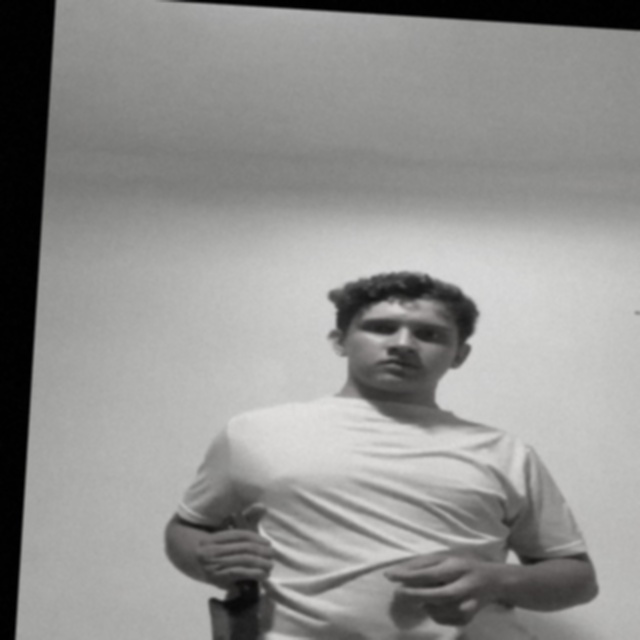Sharp-Object: (200, 591, 269, 640)
